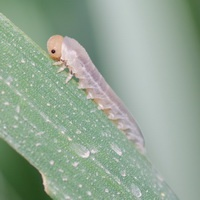insect: (47, 35, 144, 153)
